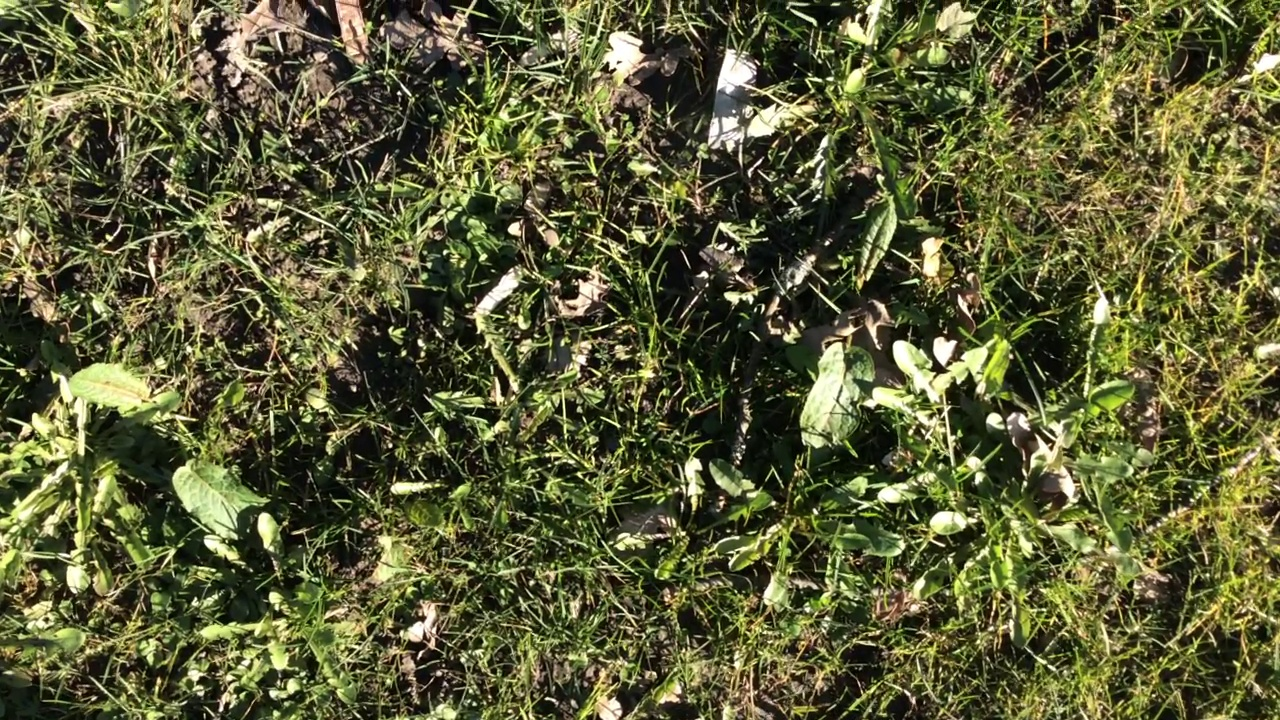rumex: (173, 458, 266, 543), (805, 347, 873, 453), (68, 368, 153, 409), (860, 202, 895, 283)
